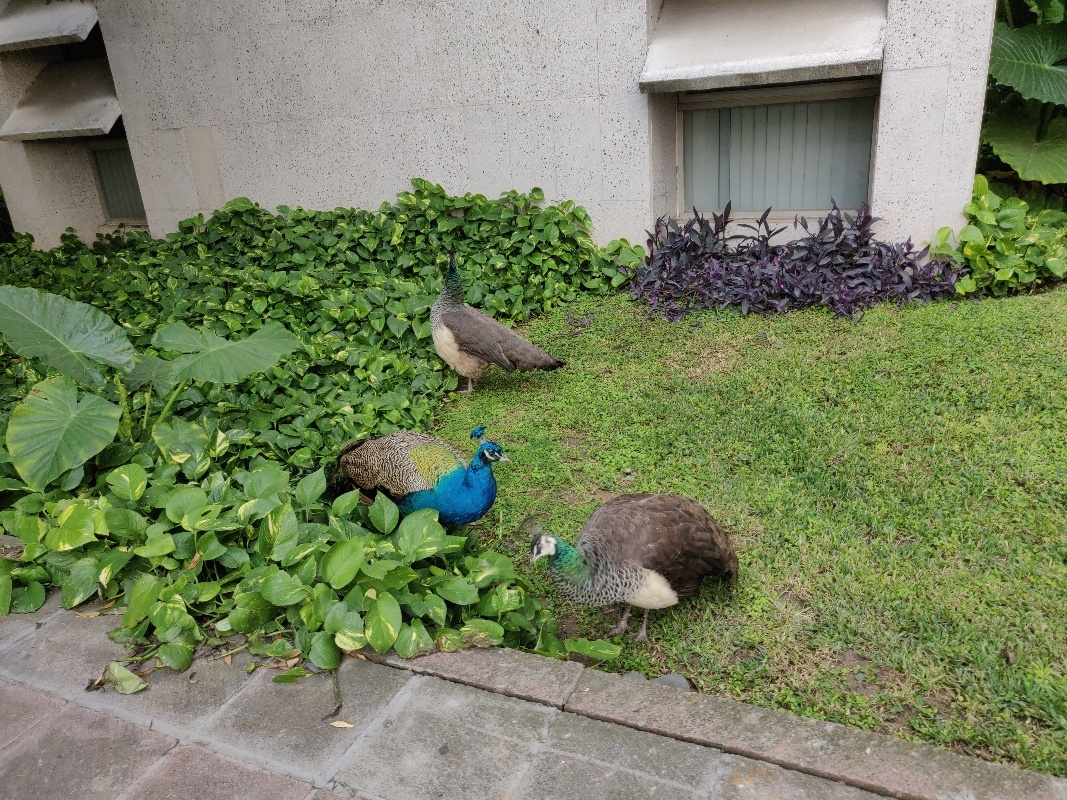pavoreal: (529, 492, 731, 639), (344, 427, 504, 551), (427, 256, 544, 395)
